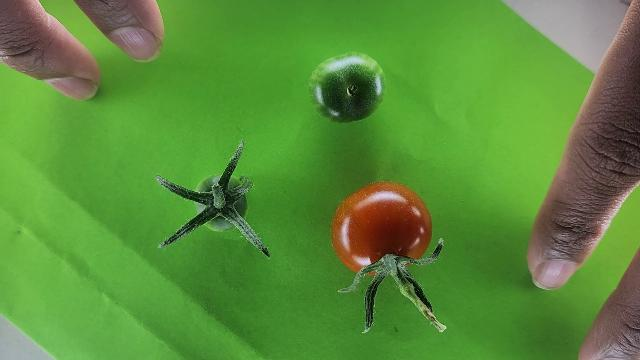Fruit Maturation: (308, 51, 386, 126), (196, 175, 248, 230)
Fully Grown: (330, 180, 434, 277)
